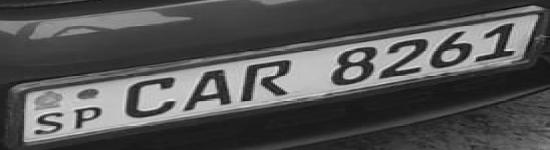1: (480, 20, 527, 62)
2: (379, 39, 431, 80)
6: (429, 29, 477, 69)
8: (327, 45, 378, 88)
A: (182, 68, 239, 113)
C: (122, 75, 179, 118)
P: (73, 106, 113, 131)
R: (238, 59, 295, 104)
S: (26, 110, 70, 136)
